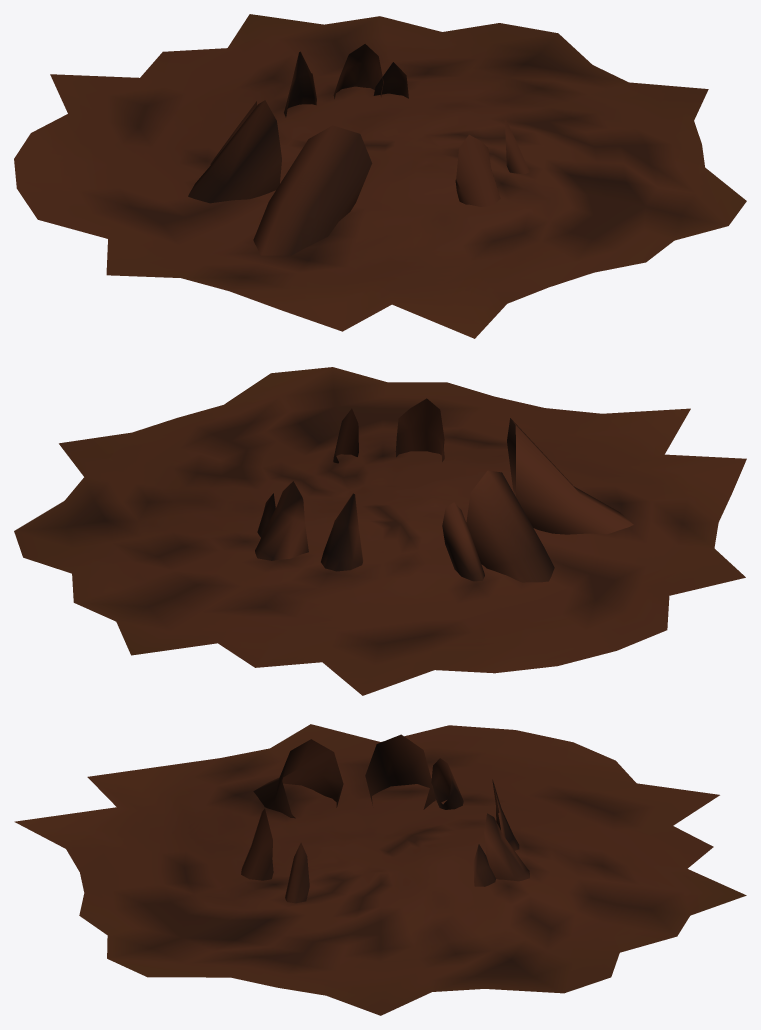
The model's file is field_spring_tree_root.fbx.
3 renders of one model, top to bottom at view 1: azimuth 30°, elevation 25°; view 2: azimuth 150°, elevation 25°; view 3: azimuth 270°, elevation 25°, orthographic. The views are drawn at different scales.
Visible parts, largest first — view 1: field_spring_tree_root; view 2: field_spring_tree_root; view 3: field_spring_tree_root.
Boxes of the visible parts, left/top/right/bottom form: field_spring_tree_root: left=14, top=14, right=746, bottom=338; field_spring_tree_root: left=14, top=367, right=746, bottom=695; field_spring_tree_root: left=14, top=724, right=746, bottom=1015.
Size of the model in its own units: 1413 by 327 by 1485.
